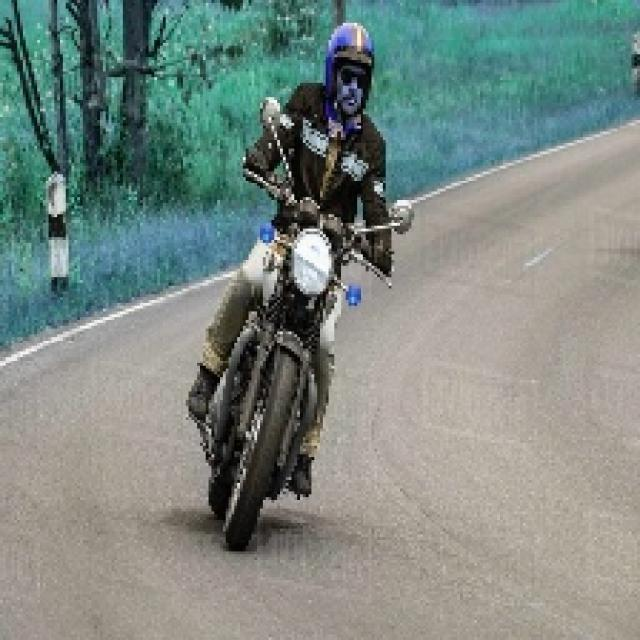bike: (206, 136, 335, 552)
